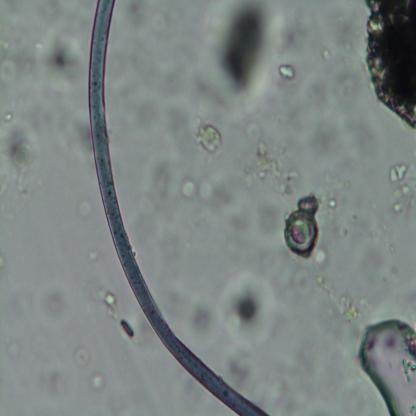Air bubble: (358, 313, 416, 415)
Background material: (361, 0, 416, 133), (209, 1, 272, 106), (124, 52, 191, 145), (342, 201, 399, 294), (300, 111, 372, 182), (132, 157, 180, 240), (224, 269, 274, 344), (312, 45, 361, 119), (295, 174, 347, 234), (37, 27, 85, 91), (249, 141, 303, 194), (27, 332, 69, 397), (0, 112, 40, 172), (45, 106, 90, 158), (217, 339, 259, 390), (179, 170, 231, 209), (187, 293, 223, 348), (101, 289, 137, 343), (273, 10, 314, 57), (316, 281, 358, 325), (271, 253, 311, 297), (0, 57, 39, 101), (122, 0, 165, 36), (35, 283, 69, 325), (388, 158, 412, 212), (197, 120, 224, 157), (312, 249, 332, 276), (4, 341, 25, 360), (73, 346, 92, 366), (280, 61, 298, 82), (78, 196, 91, 224), (87, 370, 103, 390), (85, 246, 100, 264)
Diatom: (285, 210, 319, 254)
Microfibre: (88, 0, 269, 416)
